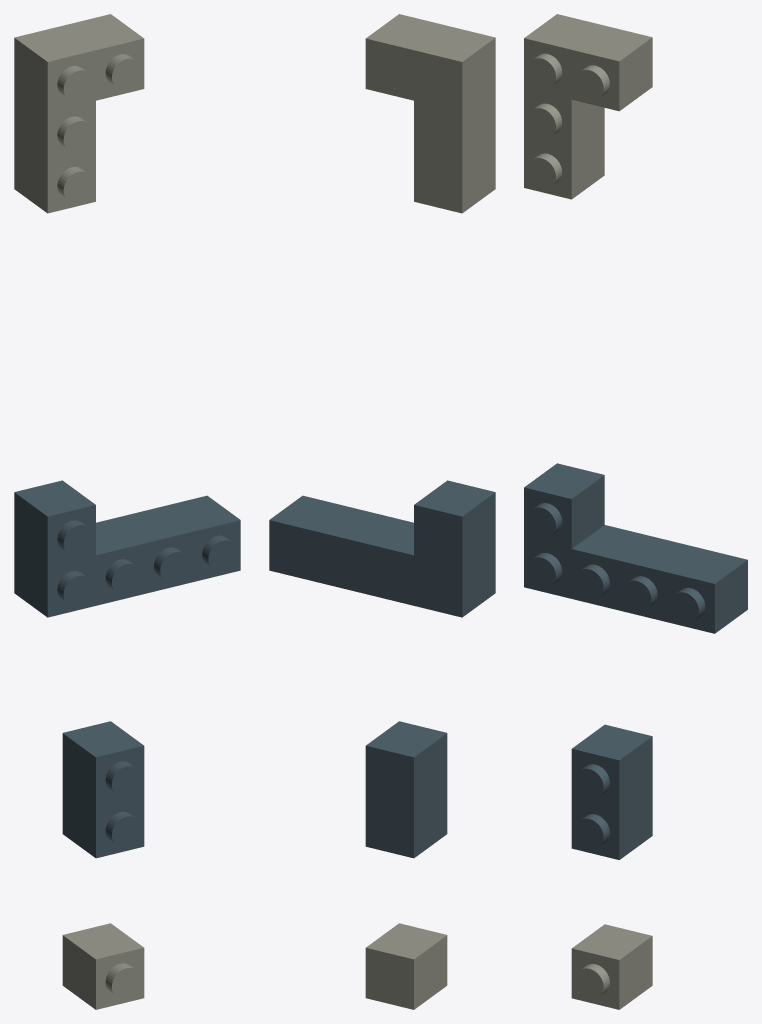
Rendered from current.glb.
3 renders of one model, left to right at view 1: azimuth 30°, elevation 25°; view 2: azimuth 150°, elevation 25°; view 3: azimuth 330°, elevation 25°, orthographic.
Visible parts, largest first — view 1: world; view 2: world; view 3: world.
Boxes of the visible parts, x1,y1,x2,y2 form: world: (14,14,240,1009); world: (269,14,495,1009); world: (524,14,747,1009).
Bounding box in the file's own units: 32 × 152 × 11.4.
